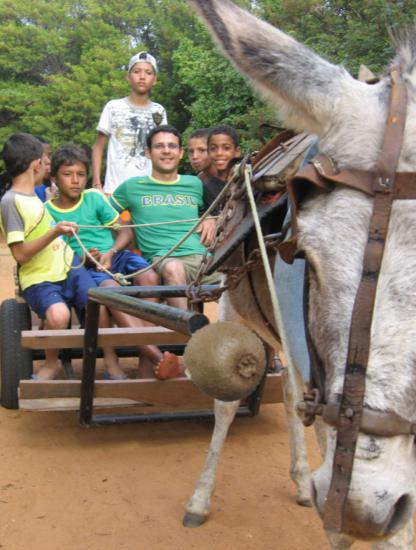Kiwi: (183, 318, 269, 404)
